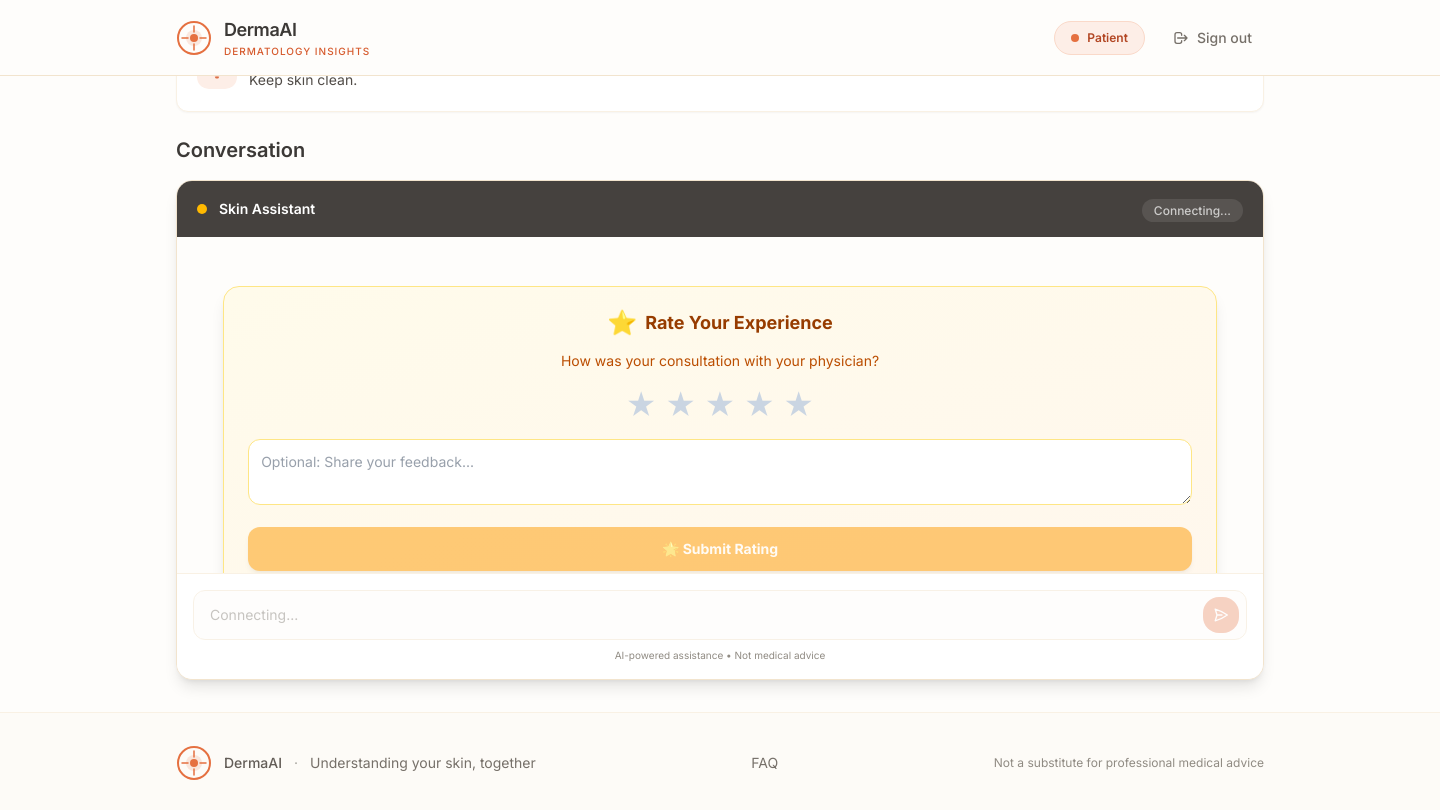
PatientCasePage ratings › submits rating and feedback
(page scrolled)
Expected: the heading "Rate Your Experience" is shown, [645,309,833,337]
Step 1. Click the button named "4 star" → (759, 405), box [744,387,775,423]
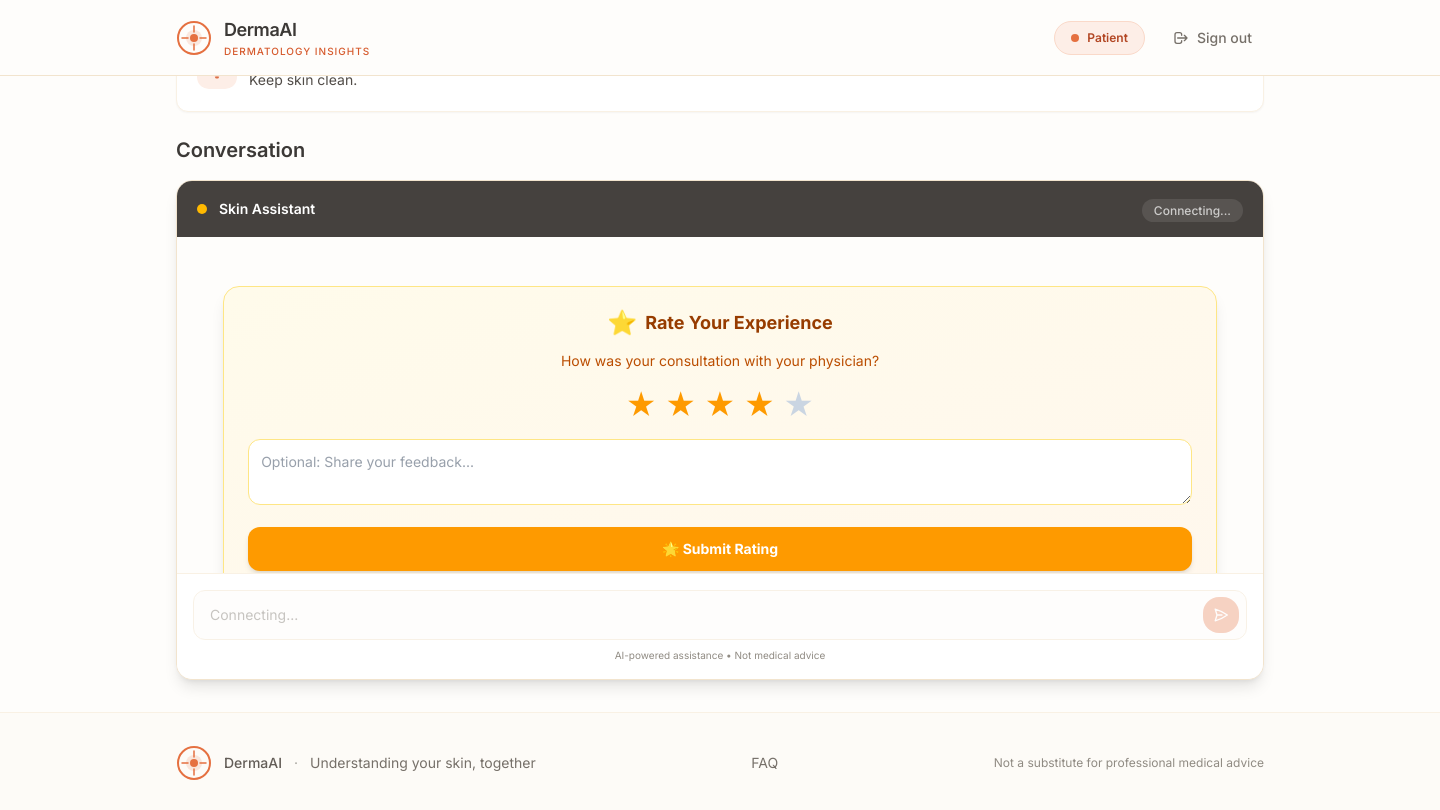
Step 2. Type "Helpful review." into the text box with placeholder "Optional: Share your feedback..." → (720, 472), box [248,439,1192,505]
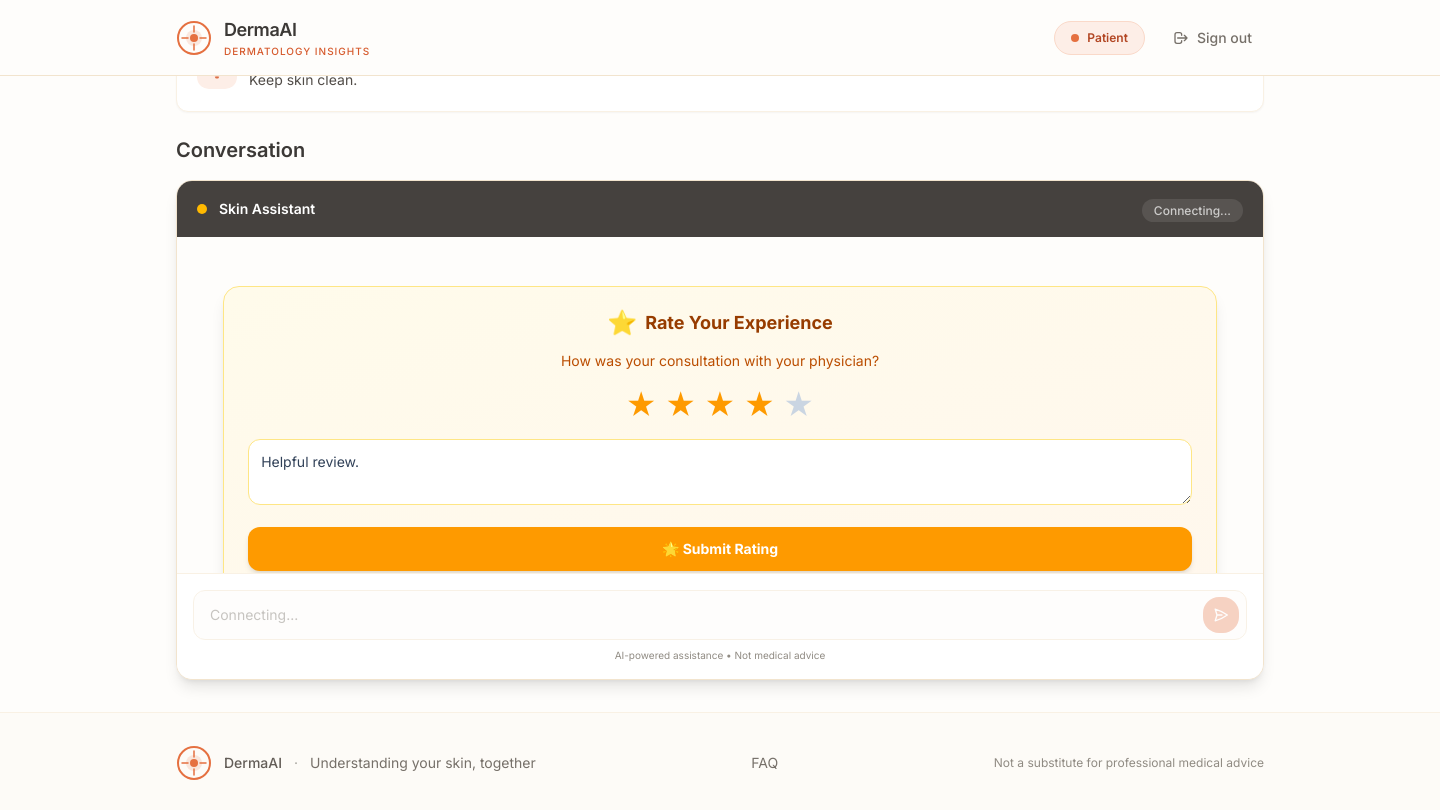
Step 3. Click the button "🌟 Submit Rating" → (720, 549), box [248,527,1192,571]
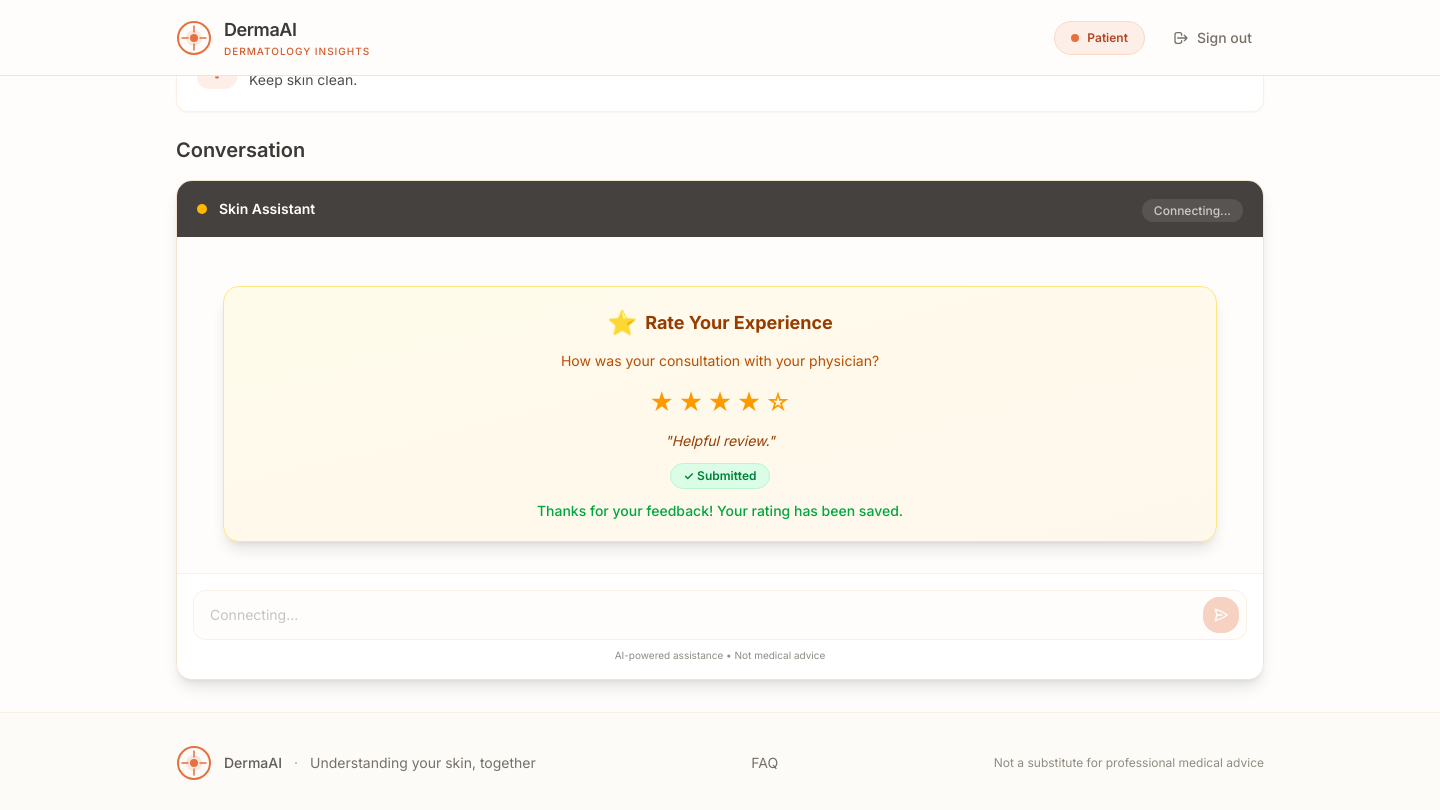
Now the text "✓ Submitted" is shown, box [670,463,770,489]
